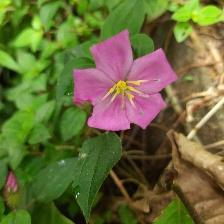malabar melastome: (72, 28, 179, 136)
